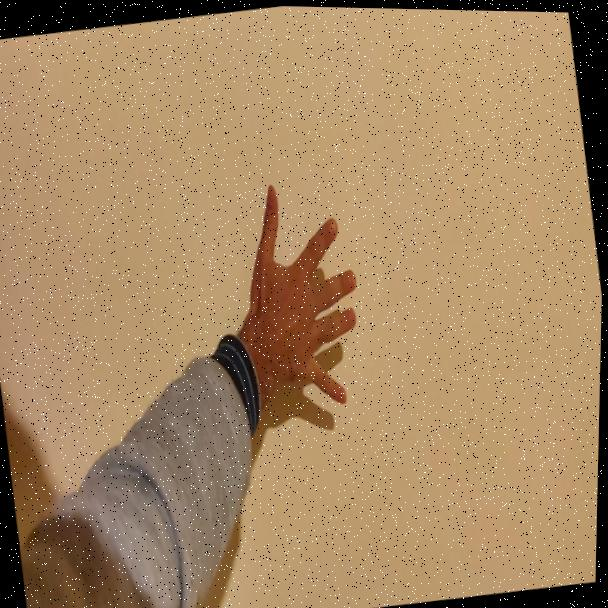five: (225, 154, 380, 437)
